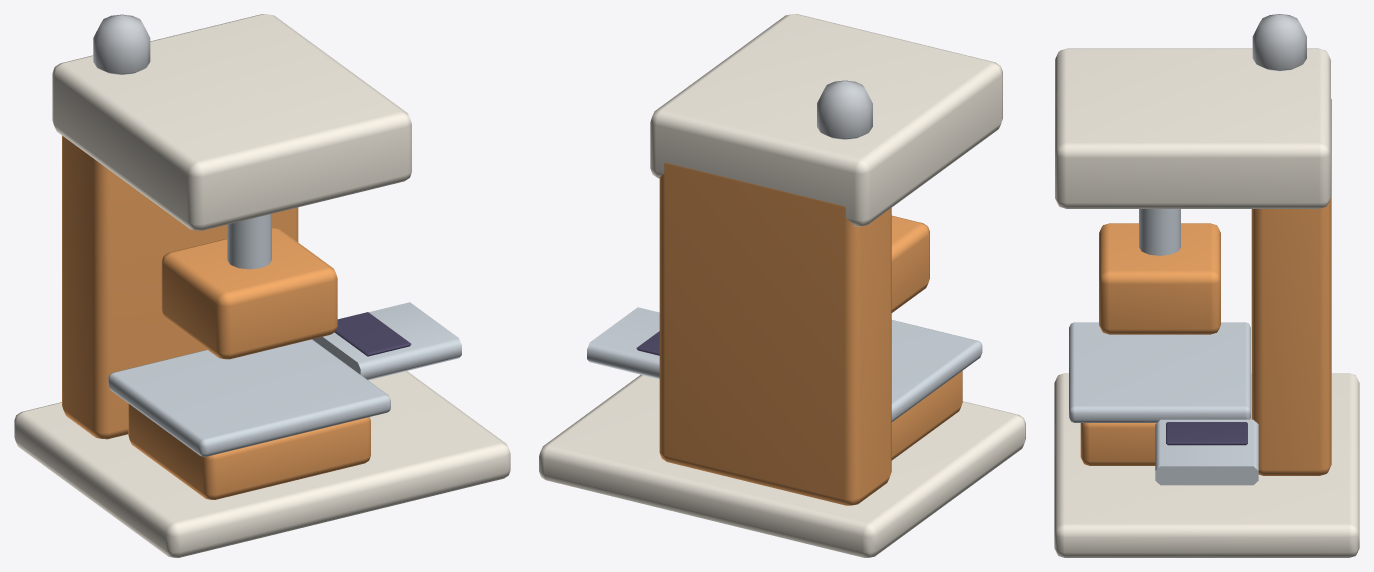
Rendered from machine_press.glb.
3 renders of one model, left to right at view 1: azimuth 30°, elevation 25°; view 2: azimuth 150°, elevation 25°; view 3: azimuth 270°, elevation 25°, orthographic. The views are drawn at different scales.
Visible parts, largest first — view 1: machine_press_structure, press, lamp; view 2: machine_press_structure, press, lamp; view 3: machine_press_structure, press, lamp.
Part boxes in pixels (box(x1,y1,x2,y2)): machine_press_structure: box(14, 14, 510, 557); press: box(161, 214, 337, 359); lamp: box(93, 14, 150, 74); machine_press_structure: box(539, 14, 1025, 557); press: box(891, 215, 929, 312); lamp: box(817, 80, 872, 139); machine_press_structure: box(1054, 48, 1359, 557); press: box(1099, 209, 1220, 334); lamp: box(1252, 14, 1306, 71).
Size of the model in its own units: 3.2 by 3.95 by 2.6.
